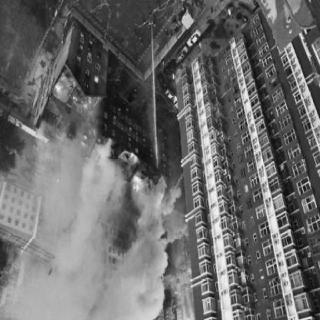Smoke: (94, 231, 167, 320)
